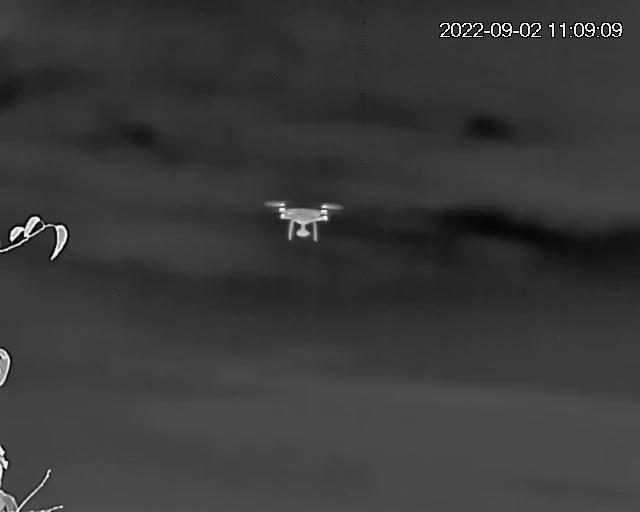DJI-Phantom: (267, 199, 342, 242)
